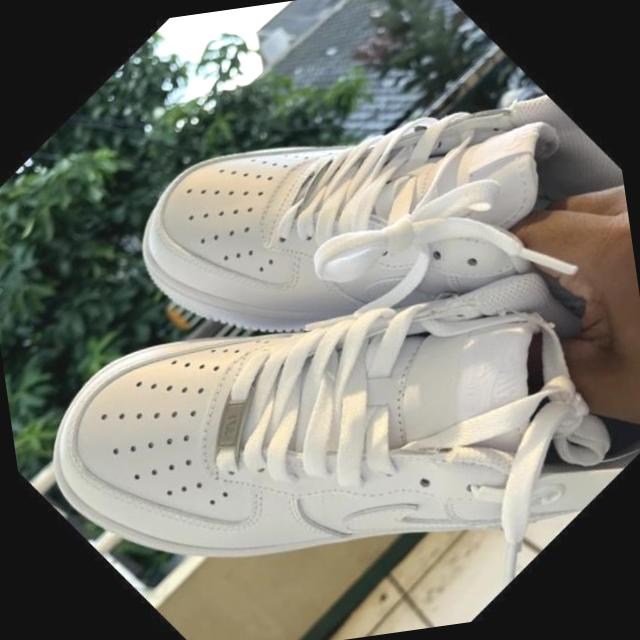nike_original_airforce: (0, 47, 640, 640), (76, 0, 640, 515)
